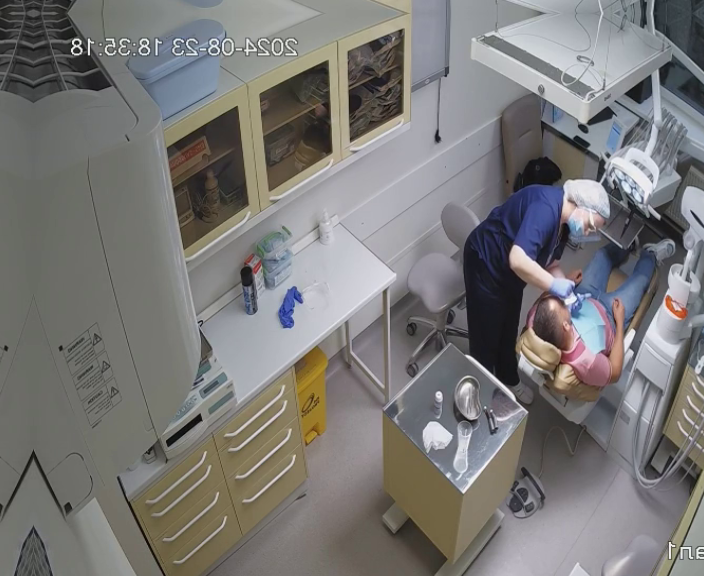Patient: (512, 233, 680, 421)
